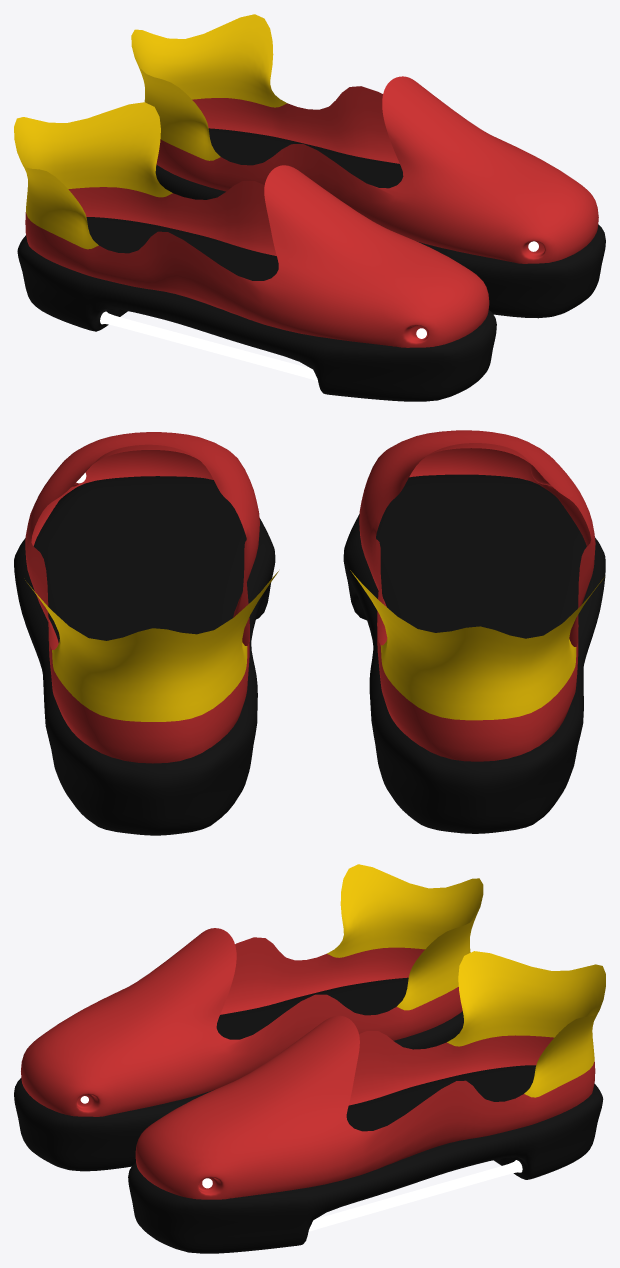
The model's file is sneaker.gltf.
The picture shows the model from 3 angles, top to bottom: view 1: azimuth 30°, elevation 25°; view 2: azimuth 150°, elevation 25°; view 3: azimuth 270°, elevation 25°; orthographic projection. The views are drawn at different scales.
Parts seen in each view (by area): view 1: Plane; view 2: Plane; view 3: Plane.
Part boxes in pixels (box(x1,y1,x2,y2)): Plane: box(14, 14, 605, 401); Plane: box(14, 430, 605, 835); Plane: box(14, 864, 605, 1253).
Bounding box in the file's own units: 5.16 × 1.87 × 5.59.
